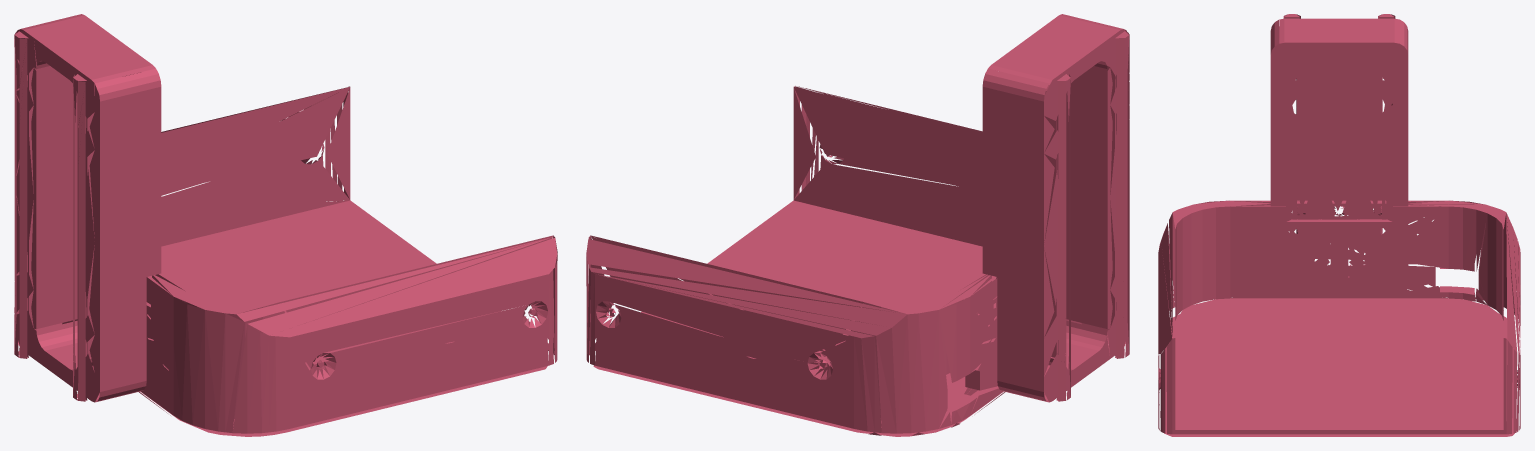
The model's file is MB1_00_011_festo-chest_mount_assy+spacer.dae.
3 views of the same model, side by side, from view 1: azimuth 30°, elevation 25°; view 2: azimuth 150°, elevation 25°; view 3: azimuth 270°, elevation 25° (orthographic). The views are drawn at different scales.
Visible parts, largest first — view 1: MB1_00_011_festo-chest_mount_assy_spacer; view 2: MB1_00_011_festo-chest_mount_assy_spacer; view 3: MB1_00_011_festo-chest_mount_assy_spacer.
Boxes of the visible parts, x1=… form: MB1_00_011_festo-chest_mount_assy_spacer: x1=14, y1=14, x2=557, y2=436; MB1_00_011_festo-chest_mount_assy_spacer: x1=586, y1=14, x2=1129, y2=436; MB1_00_011_festo-chest_mount_assy_spacer: x1=1158, y1=14, x2=1520, y2=436.
Bounding box in the file's own units: 0.2206 × 0.2105 × 0.17.
